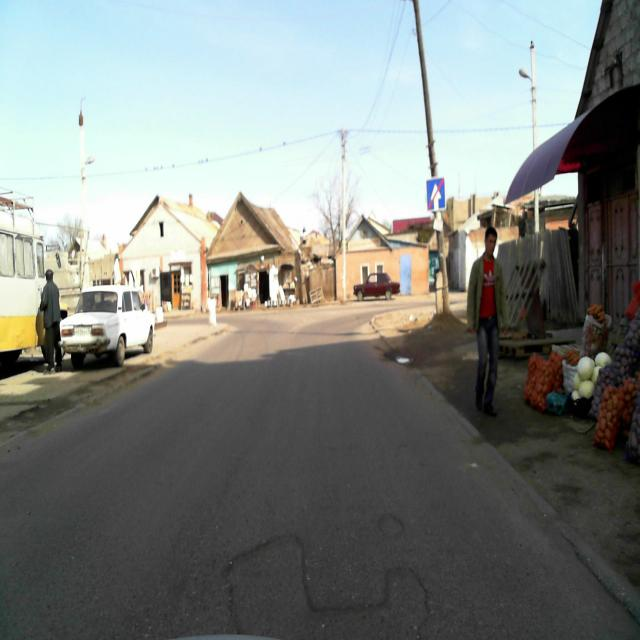road sign: (425, 177, 446, 212)
